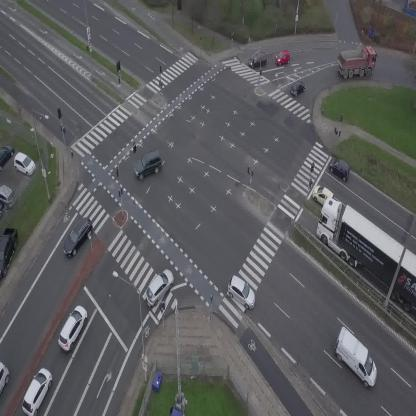car: (17, 366, 57, 416), (54, 303, 93, 353), (57, 215, 98, 260), (140, 266, 179, 308), (222, 274, 262, 311), (130, 149, 166, 181), (326, 155, 354, 182), (309, 183, 337, 208), (288, 78, 308, 98), (247, 51, 268, 68), (273, 49, 292, 66)
lorry: (323, 325, 389, 391), (336, 45, 379, 80)
